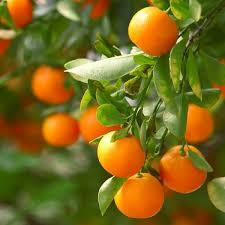orange: (157, 146, 209, 194), (125, 10, 178, 55), (107, 175, 165, 216), (98, 135, 145, 177)
